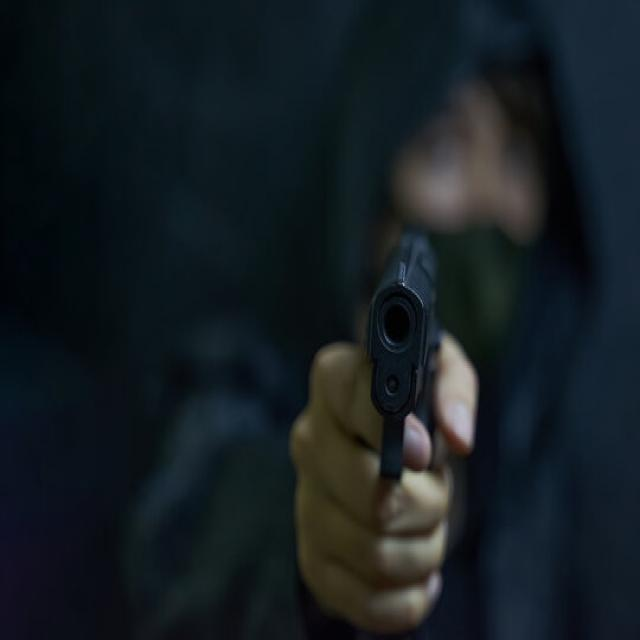HandGun: (367, 231, 441, 484)
